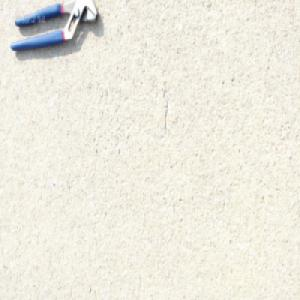Pliers: (8, 0, 98, 52)
